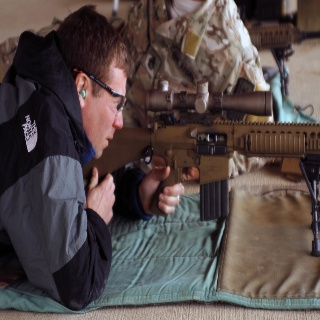rifle: (80, 80, 320, 223)
